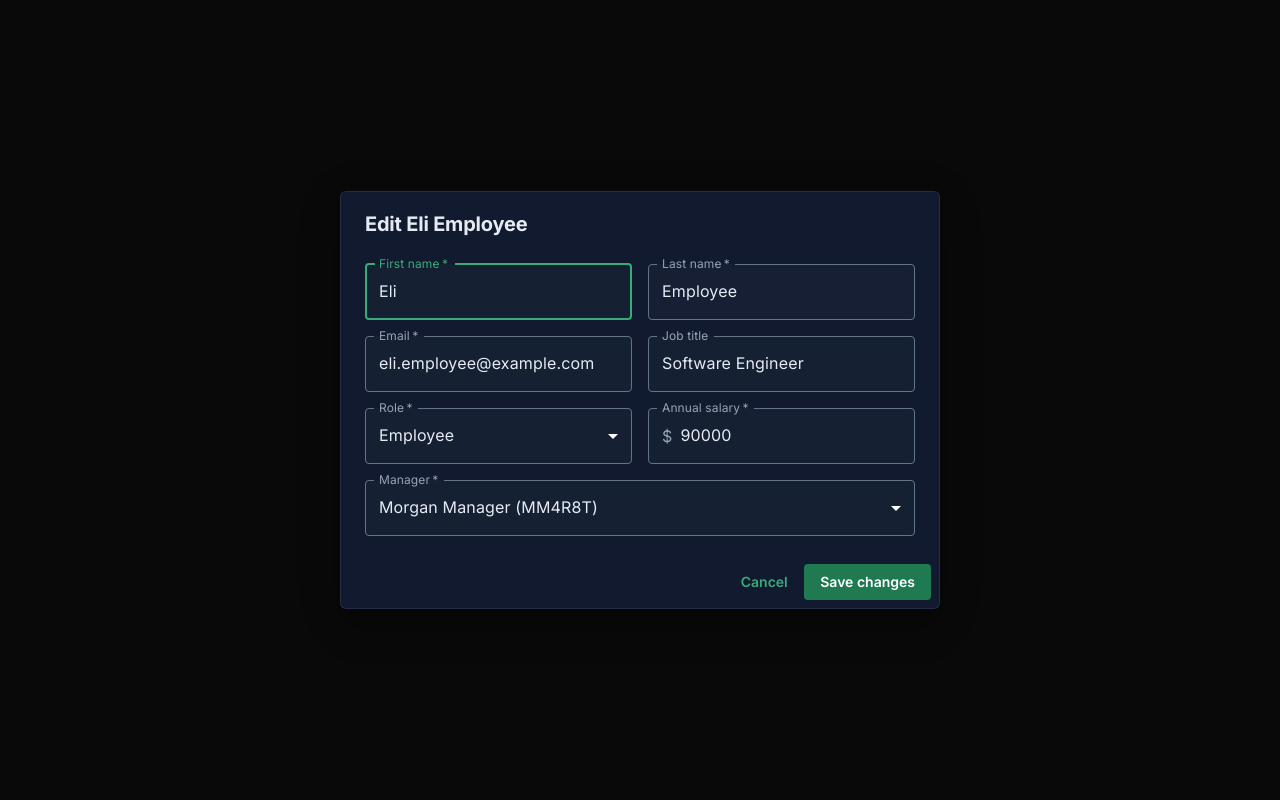
Scenario: UserFormDialog › shows server validation errors next to the field
Step 1. Replace the text in the field labelled "Email *" with "taken@example.com" → [498, 364], box [365,336,632,392]
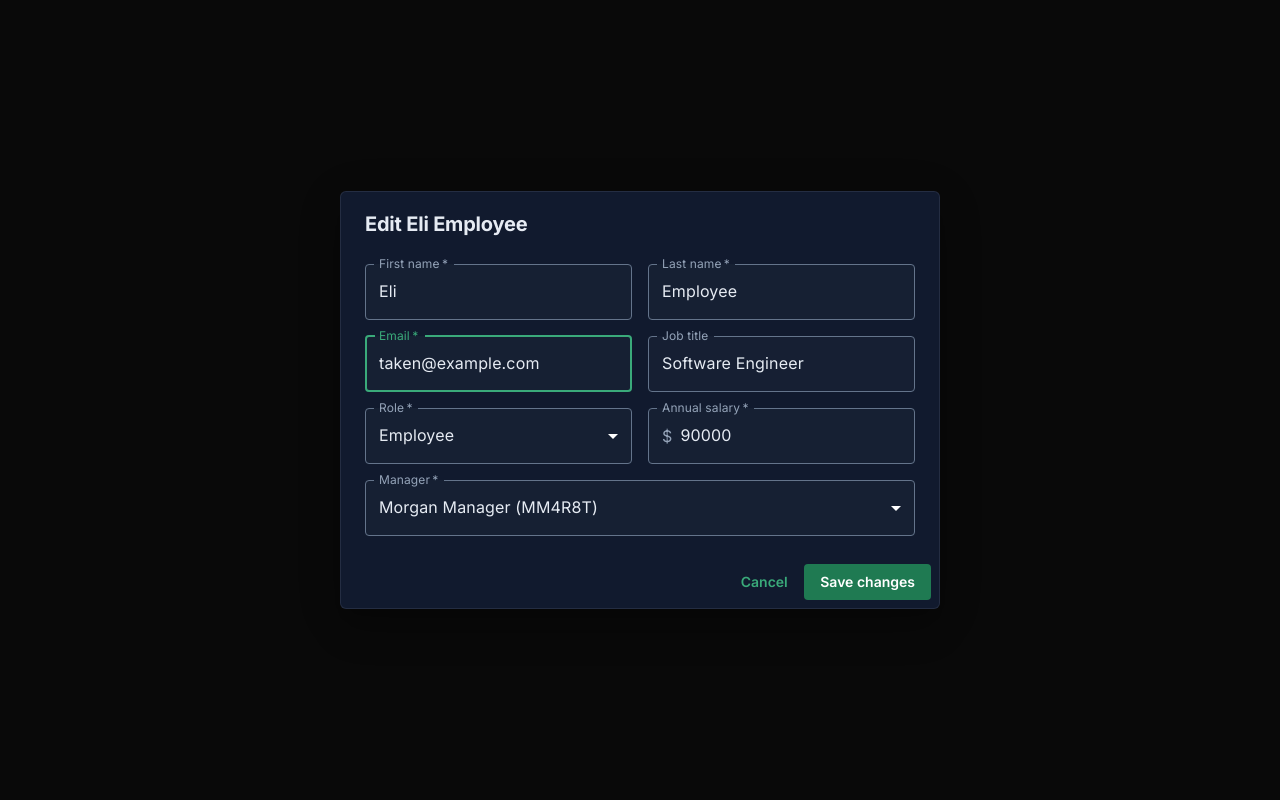
Step 2. Click the button "Save changes" → [868, 582], box [804,564,931,600]
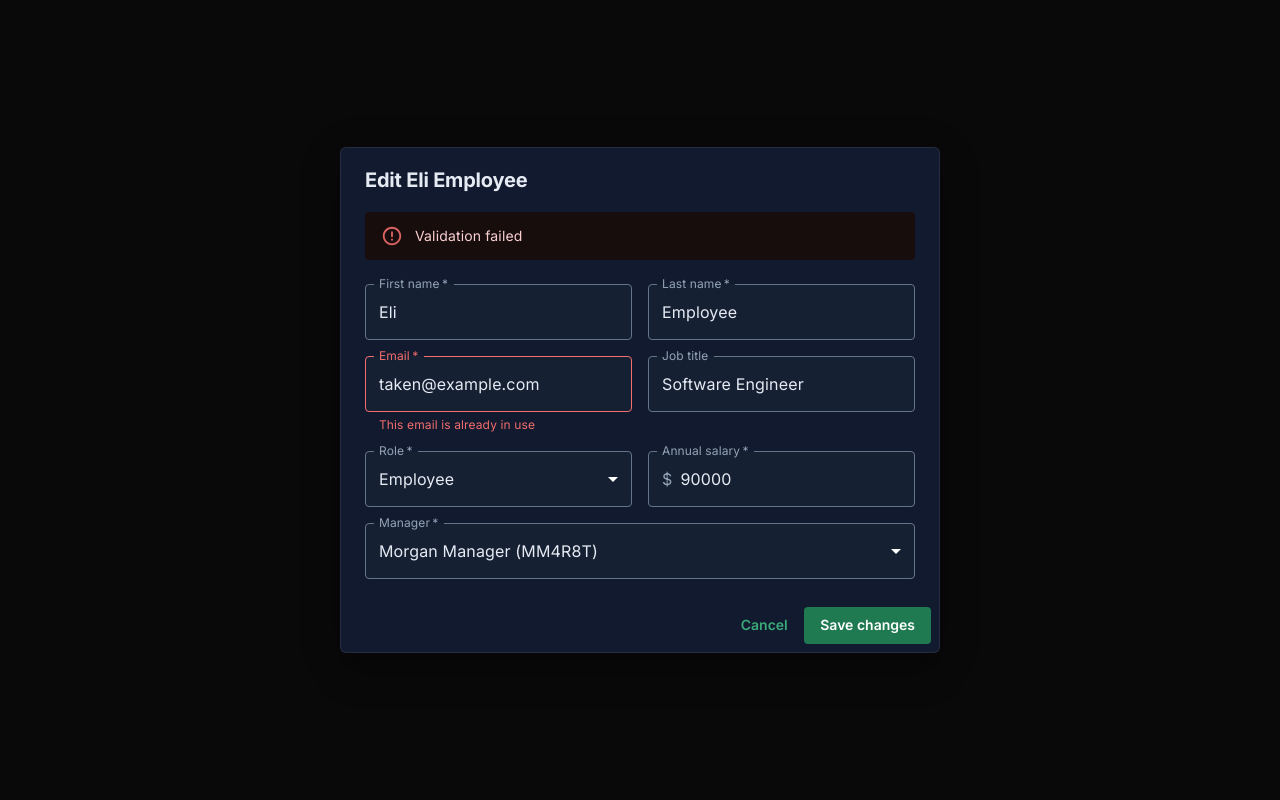
Expected: the button "Save changes" is enabled, [804,607,931,644]
Expected: the text "This email is already in use" is shown, [379,417,535,432]
